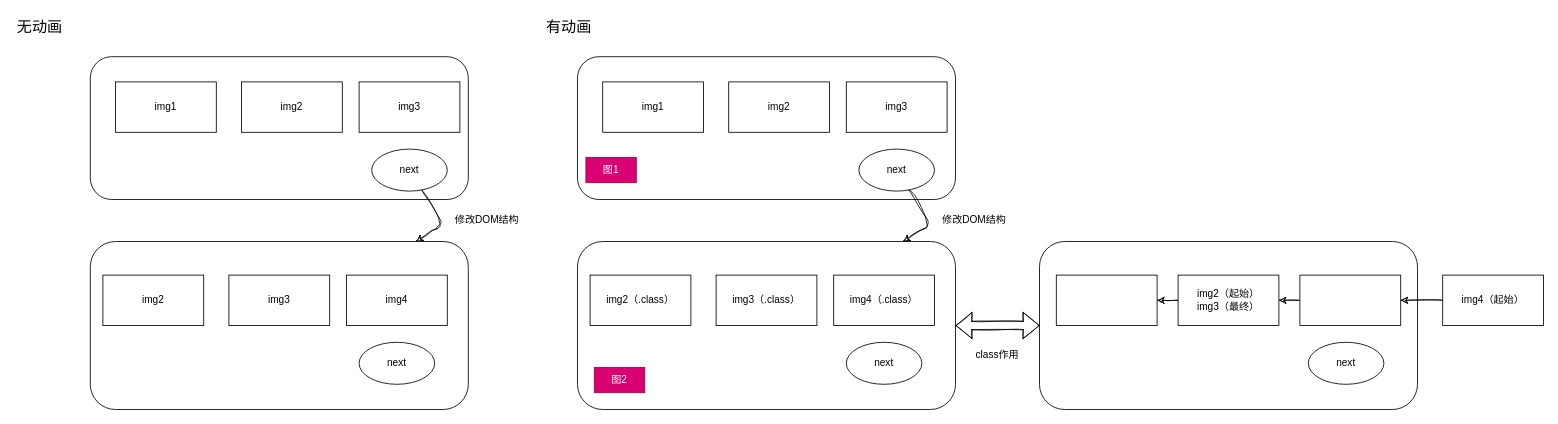
The diagram is 1558 pixels wide and 424 high, and some of its shapes have lost their labels. Here are the shapes that lost their labels. From the top down, the centre of each, then its label:
At point 1106,300: "img2（最终）".
At point 1350,300: "img3（起始） img4（最终）".
